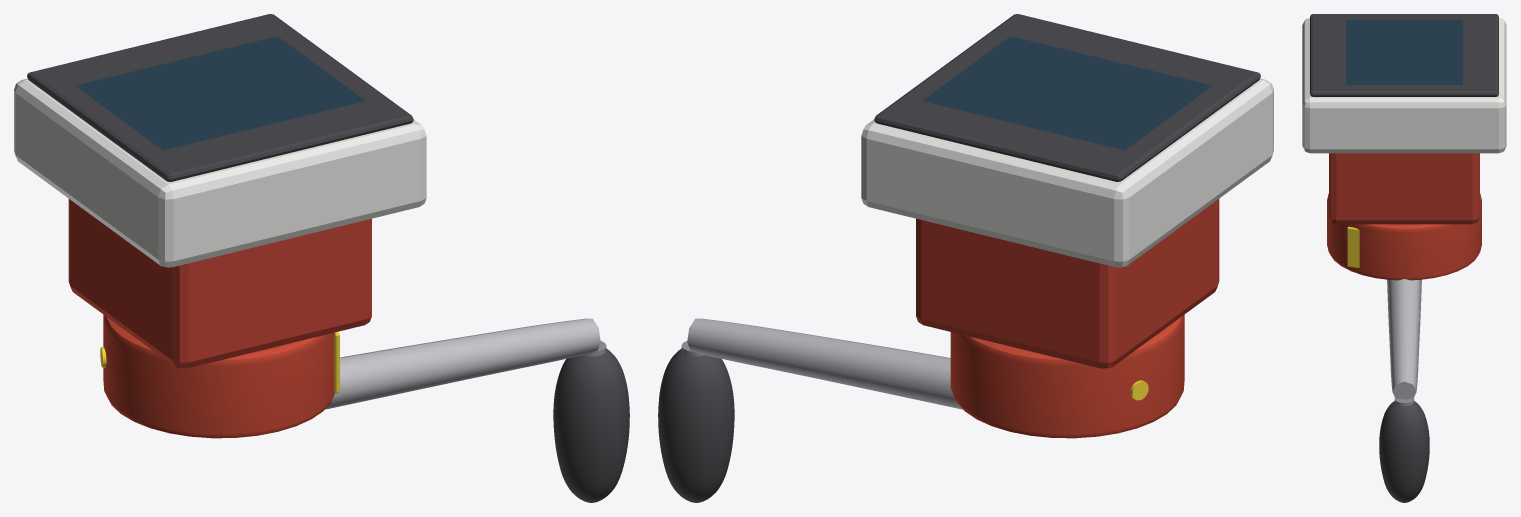
File: RollerHaptic.fbx
3 renders of one model, left to right at view 1: azimuth 30°, elevation 25°; view 2: azimuth 150°, elevation 25°; view 3: azimuth 270°, elevation 25°, orthographic. The views are drawn at different scales.
Parts seen in each view (by area): view 1: RollerCAN_Rotor, CoreS3_Body, RollerCAN_Square, CoreS3_Face, CoreS3_Screen; view 2: RollerCAN_Rotor, CoreS3_Body, RollerCAN_Square, CoreS3_Face, CoreS3_Screen; view 3: RollerCAN_Rotor, CoreS3_Body, RollerCAN_Square, CoreS3_Face, CoreS3_Screen, Rotor_Stripe.
Part boxes in pixels (x1,y1,x2,y2): RollerCAN_Rotor: (103, 314, 629, 502); CoreS3_Body: (14, 78, 426, 267); RollerCAN_Square: (68, 199, 371, 368); CoreS3_Face: (27, 14, 413, 181); CoreS3_Screen: (75, 36, 365, 150); RollerCAN_Rotor: (658, 314, 1184, 502); CoreS3_Body: (861, 78, 1273, 267); RollerCAN_Square: (916, 199, 1219, 368); CoreS3_Face: (874, 14, 1260, 181); CoreS3_Screen: (922, 36, 1212, 150); RollerCAN_Rotor: (1327, 193, 1481, 502); CoreS3_Body: (1302, 18, 1506, 153); RollerCAN_Square: (1329, 153, 1479, 224); CoreS3_Face: (1310, 14, 1498, 96); CoreS3_Screen: (1346, 19, 1462, 84); Rotor_Stripe: (1347, 227, 1359, 268).
Bounding box in the file's own units: 109 × 96.2 × 54.
